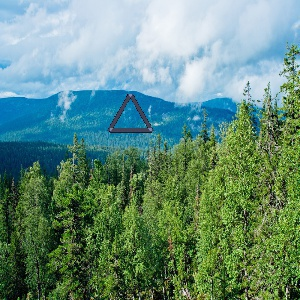triangle: (106, 91, 154, 135)
